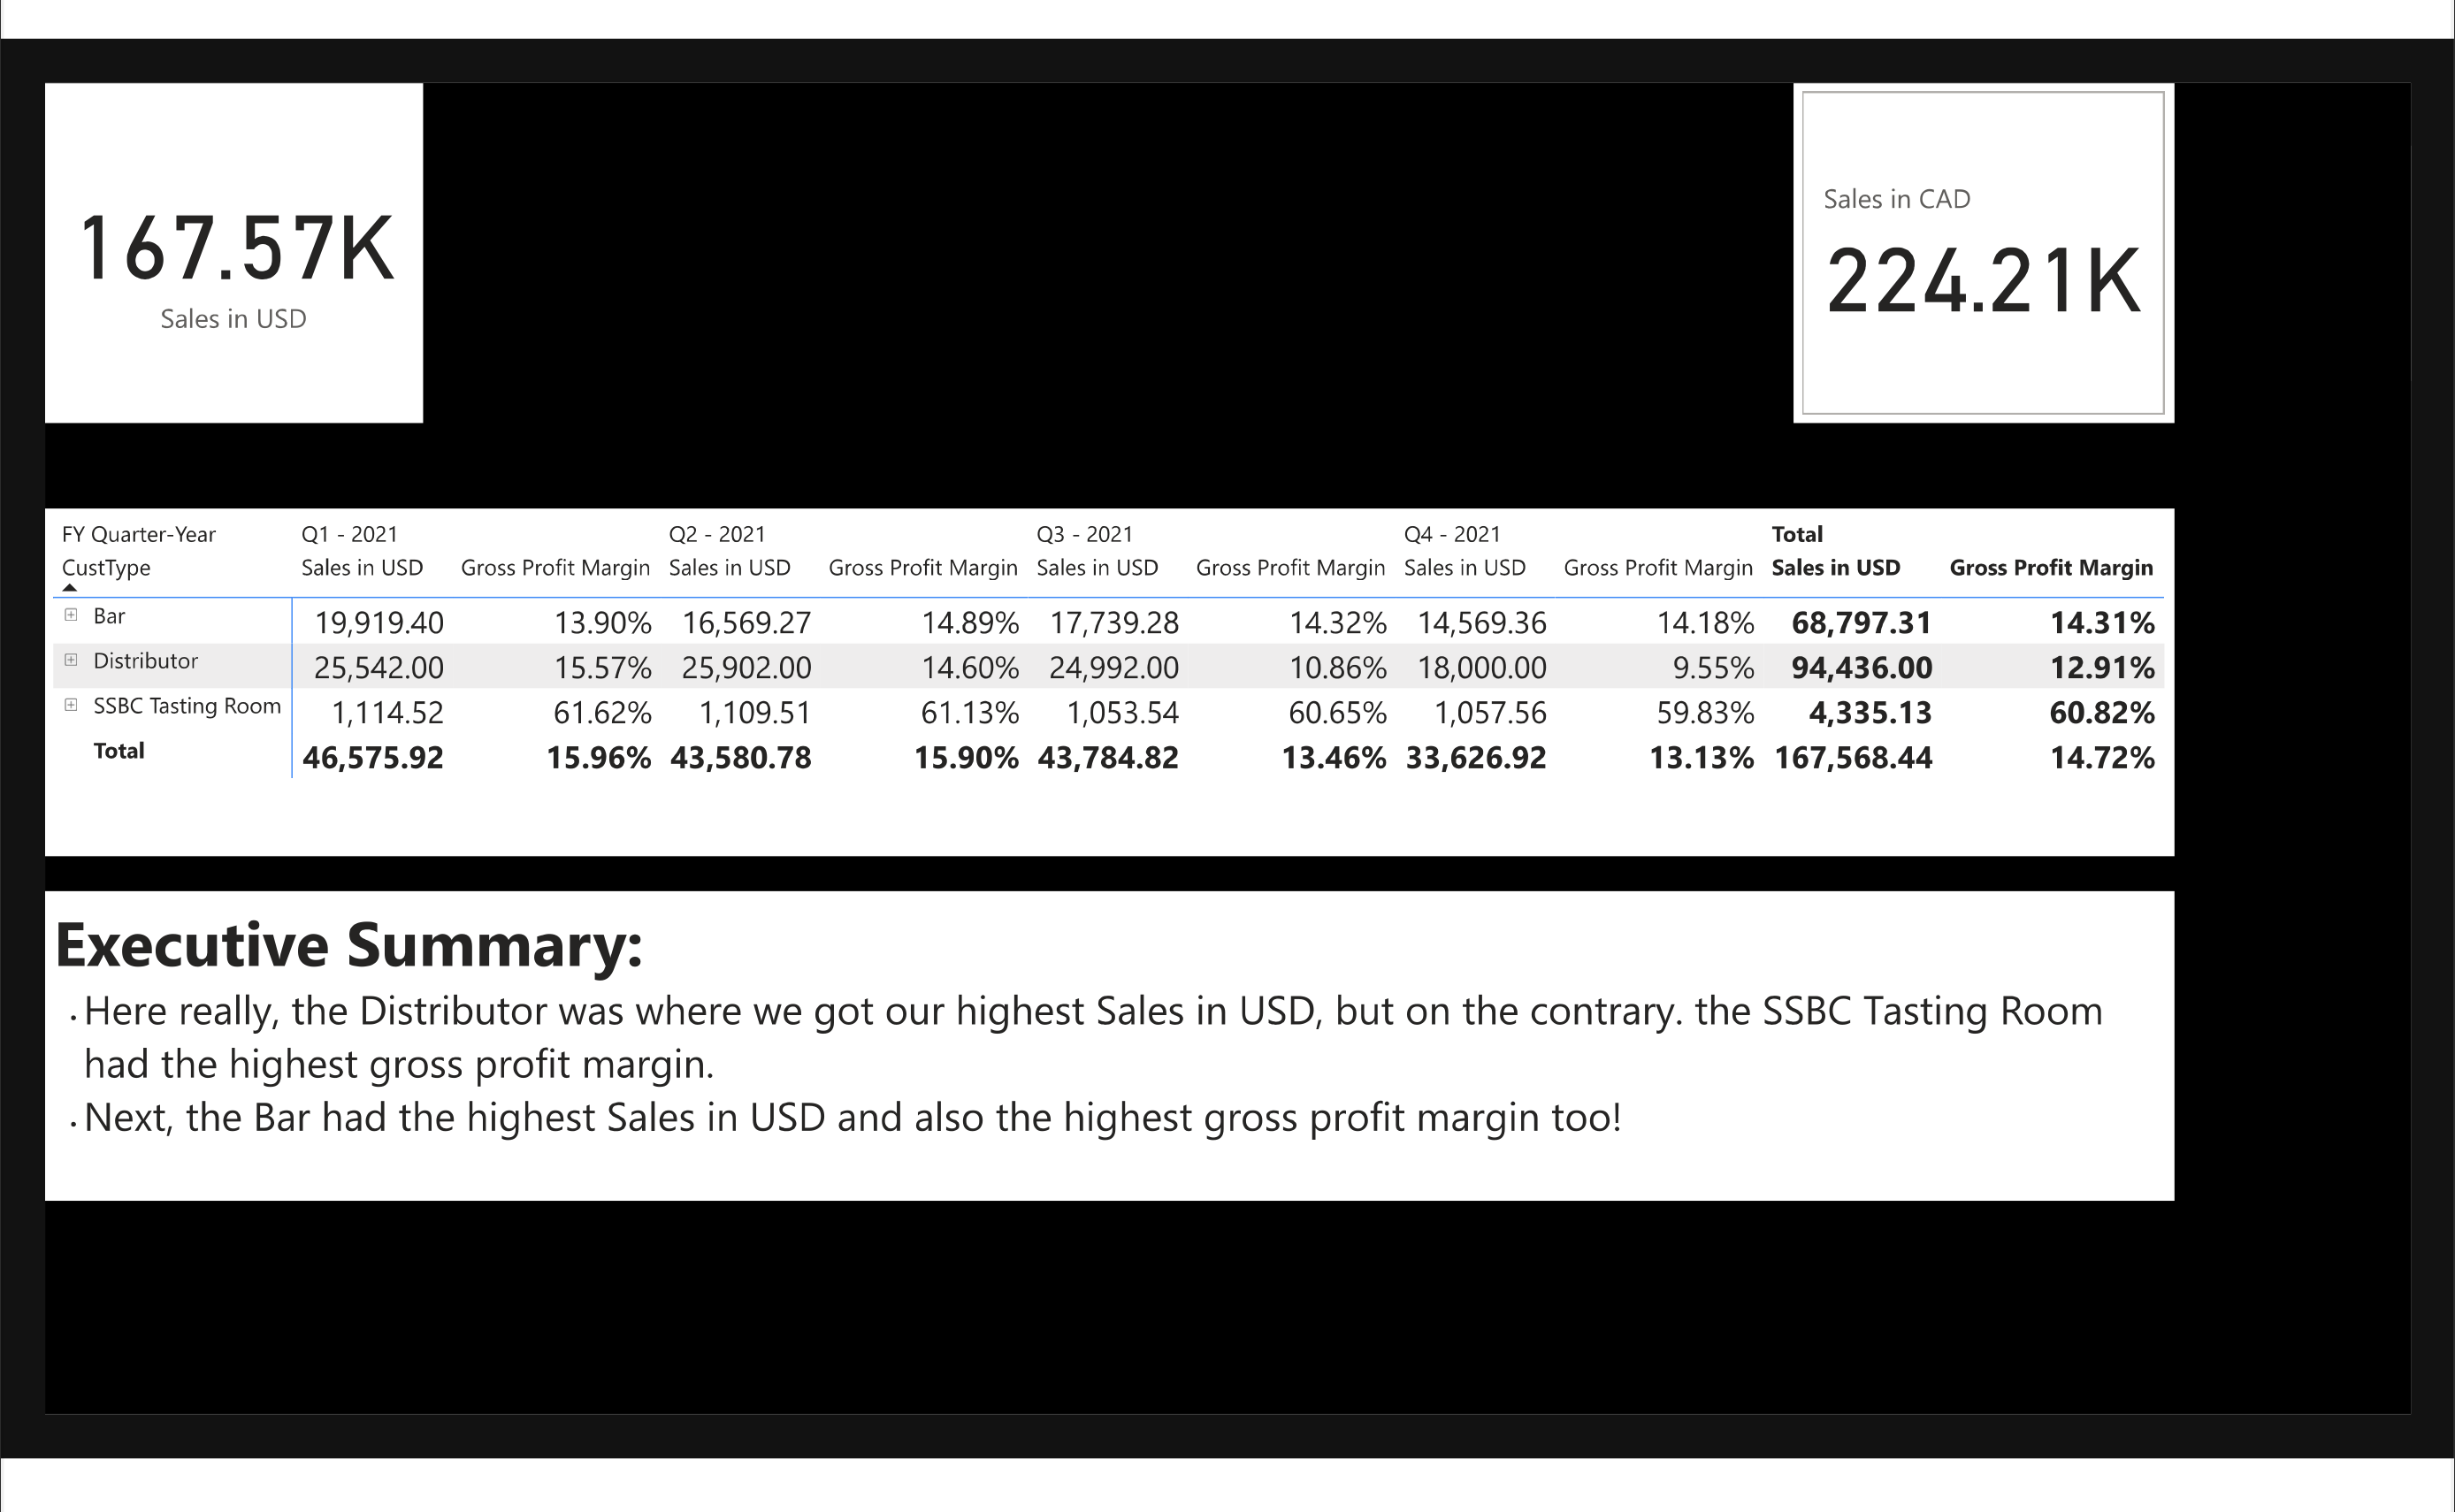

Layout of this report page (visuals, bound fields, positions):
{"tool":"powerbi","page":{"name":"Sales and GPM","canvas":[1280,720],"ordinal":0},"visuals":[{"type":"card","fields":{"Values":["Monthly Sales Logs.Sales in USD"]},"box":[0,0,226.7,204.4],"z":0},{"type":"cardVisual","fields":{"Data":["Monthly Sales Logs.Sales in CAD"]},"box":[1051.1,0,228.9,204.4],"z":1000},{"type":"pivotTable","fields":{"Rows":["Customer List.CustType","Customer List.Customer"],"Columns":["Date.FY Quarter-Year"],"Values":["Monthly Sales Logs.Sales in USD","Monthly Sales Logs.Gross Profit Margin"]},"box":[0,255.6,1280,208.9],"z":2000},{"type":"textbox","box":[0,485.6,1280,185.6],"z":3000}]}

Visuals, with their boxes on the page's 1280x720 design canvas (x1, y1, x2, y2). These are canvas units, not pixel positions in the 2455x1512 screenshot, which may show the page scaled, cropped or inside an application window:
card - Monthly Sales Logs.Sales in USD: <bbox>0, 0, 227, 204</bbox>
cardVisual - Monthly Sales Logs.Sales in CAD: <bbox>1051, 0, 1280, 204</bbox>
pivotTable - Customer List.CustType x Customer List.Customer: <bbox>0, 256, 1280, 464</bbox>
textbox: <bbox>0, 486, 1280, 671</bbox>
